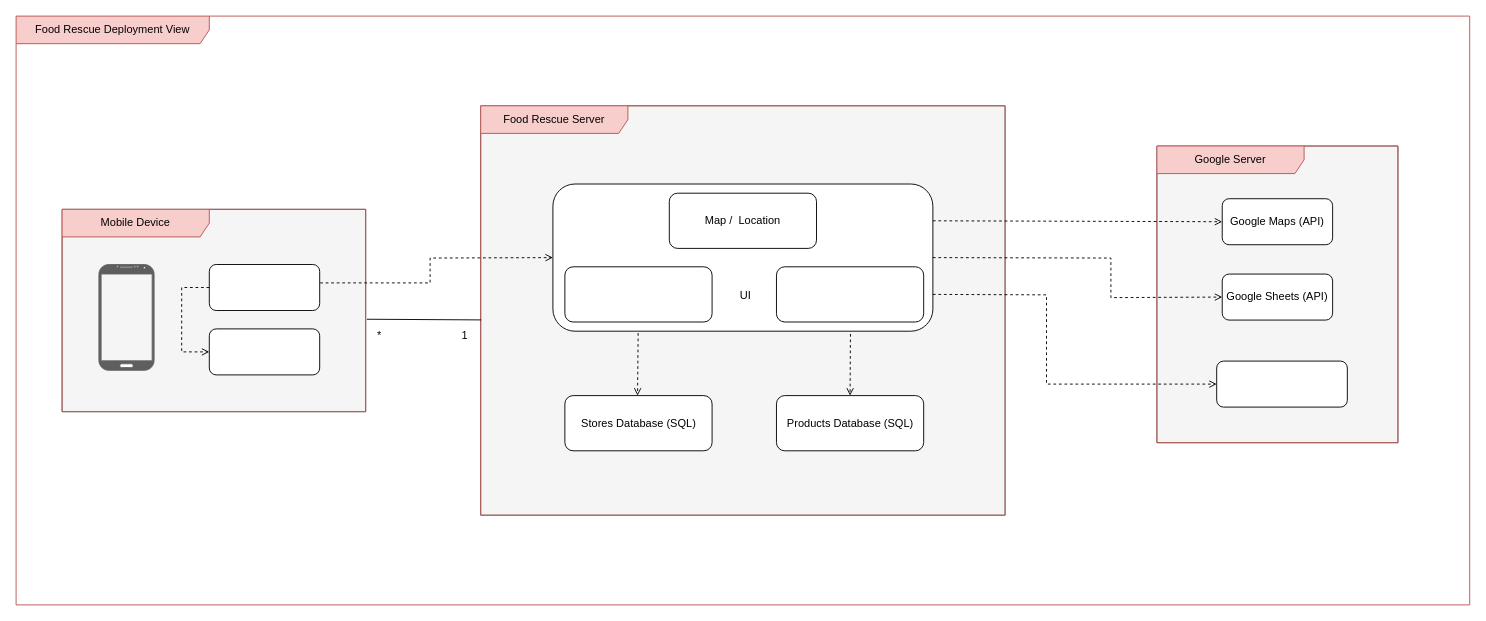
Some shapes in this 1486 by 621 pixel diagram are drawn without their labels. The centre of each missing label's shape, as x and y in pixels:
Food Rescue App (Dart): the point at 264,287
Google Directions (API): the point at 1281,383
Local Storage: the point at 264,351
Products: the point at 850,294
Stores: the point at 638,294
